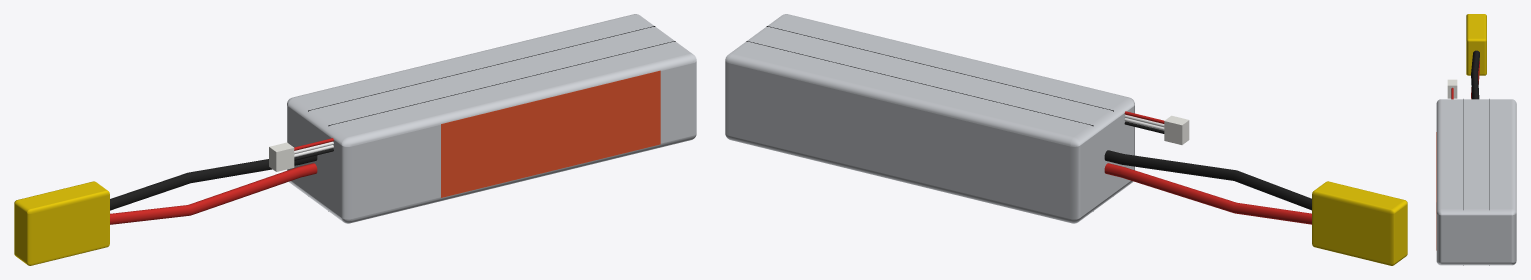
The model's file is betafpv-lava-3s-550.glb.
3 renders of one model, left to right at view 1: azimuth 30°, elevation 25°; view 2: azimuth 150°, elevation 25°; view 3: azimuth 270°, elevation 25°, orthographic. The views are drawn at different scales.
Visible parts, largest first — view 1: body, label, connector, lead_red, lead_black, balance_plug, cell_seam_2; view 2: body, connector, lead_red, lead_black, balance_plug; view 3: body, connector, lead_black, balance_plug, label, cell_seam_1, cell_seam_2.
Boxes of the visible parts, x1,y1,x2,y2 form: body: (287,14,696,223); label: (441,70,660,197); connector: (14,181,109,265); lead_red: (110,163,317,224); lead_black: (110,155,317,210); balance_plug: (269,142,294,171); cell_seam_2: (328,41,675,211); body: (725,14,1134,223); connector: (1312,181,1407,265); lead_red: (1104,163,1311,224); lead_black: (1104,150,1311,210); balance_plug: (1164,115,1189,144); body: (1436,99,1516,265); connector: (1466,14,1486,75); lead_black: (1471,50,1479,99); balance_plug: (1447,79,1457,98); label: (1436,132,1436,250); cell_seam_1: (1489,99,1489,265); cell_seam_2: (1463,99,1463,265).
Bounding box in the file's own units: 123 × 15.54 × 20.04.
